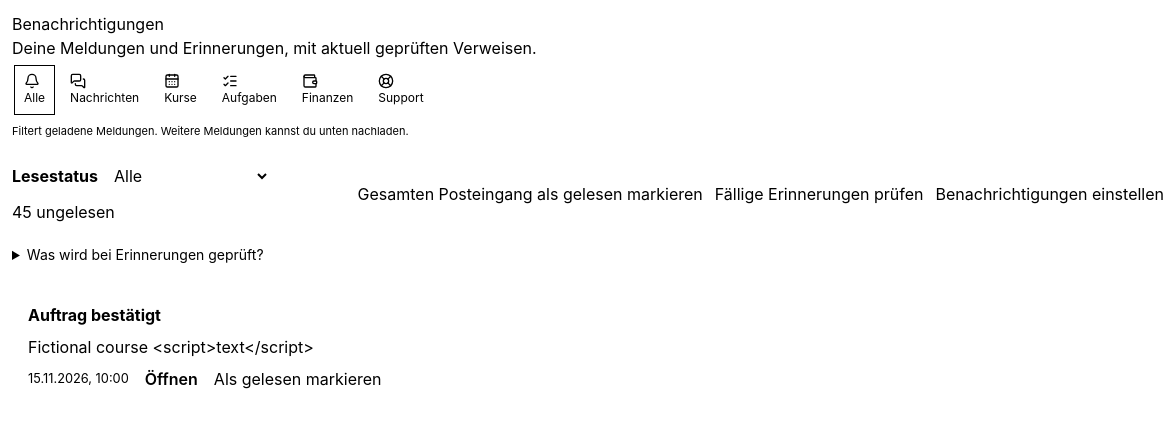
Scenario: connected notification inbox › a failed server acknowledgement keeps the notification unread and offers an honest error
Click the button "Als gelesen markieren" at (298, 378), box [214,366,382,390]
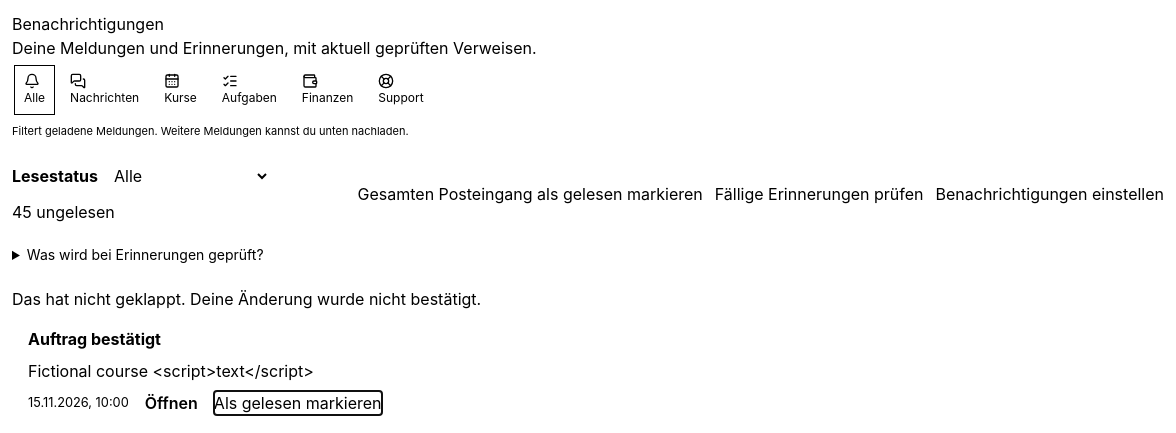
expect the button "Als gelesen markieren" is shown: met, box [214,390,382,414]
expect the text "Das hat nicht geklappt. Deine Änderung wurde nicht bestätigt." is shown: met, box [12,288,481,308]
